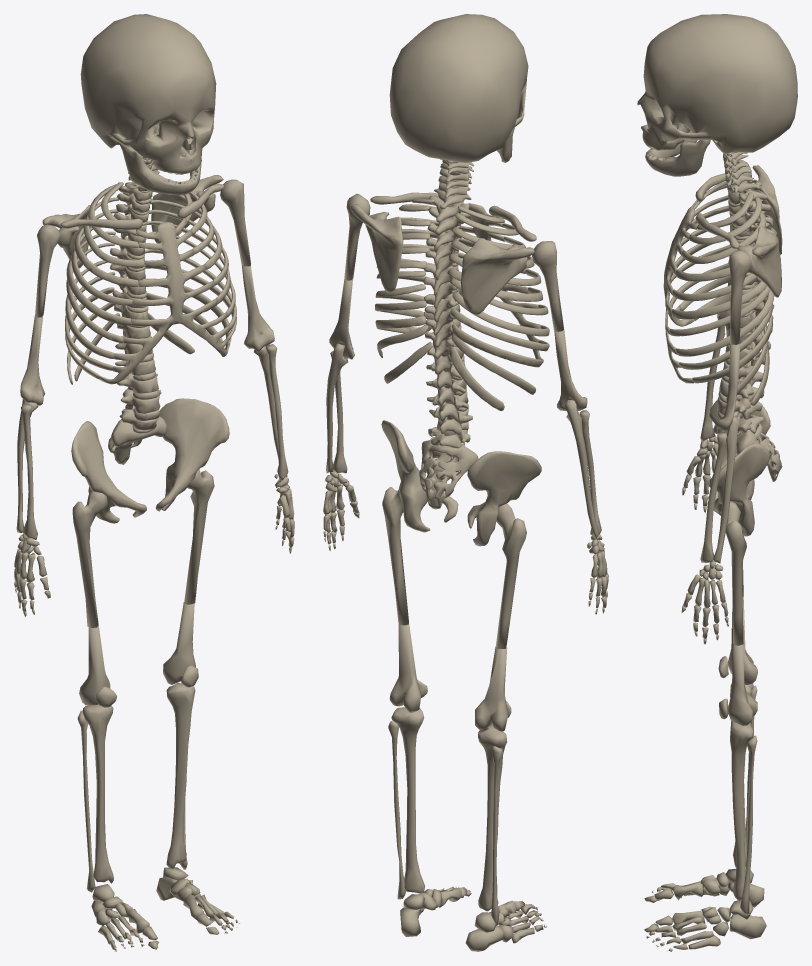
File: pediatric_child_5y_female.skeletal.LOD2.glb
3 views of the same model, side by side, from view 1: azimuth 30°, elevation 25°; view 2: azimuth 150°, elevation 25°; view 3: azimuth 270°, elevation 25° (orthographic).
Parts seen in each view (by area): view 1: PEDIATRIC.CHILD_5Y.FEMALE.SKELETAL.CRANIUM_CORTICAL, PEDIATRIC.CHILD_5Y.FEMALE.SKELETAL.RIBS_CORTICAL, PEDIATRIC.CHILD_5Y.FEMALE.SKELETAL.PELVIS_CORTICAL, PEDIATRIC.CHILD_5Y.FEMALE.SKELETAL.CARTILAGE_TRUNK, PEDIATRIC.CHILD_5Y.FEMALE.SKELETAL.TIBIAE_CORTICAL, PEDIATRIC.CHILD_5Y.FEMALE.SKELETAL.ANKLES_AND_FOOT_CORTICAL, PEDIATRIC.CHILD_5Y.FEMALE.SKELETAL.FEMORA_UPPER_CORTICAL, PEDIATRIC.CHILD_5Y.FEMALE.SKELETAL.THORACIC_SPINE_CORTICAL, PEDIATRIC.CHILD_5Y.FEMALE.SKELETAL.FEMORA_LOWER_CORTICAL, PEDIATRIC.CHILD_5Y.FEMALE.SKELETAL.WRISTS_AND_HAND_BONES_COR, PEDIATRIC.CHILD_5Y.FEMALE.SKELETAL.HUMERI_LOWER_CORTICAL, PEDIATRIC.CHILD_5Y.FEMALE.SKELETAL.HUMERI_UPPER_CORTICAL (+9 smaller); view 2: PEDIATRIC.CHILD_5Y.FEMALE.SKELETAL.CRANIUM_CORTICAL, PEDIATRIC.CHILD_5Y.FEMALE.SKELETAL.RIBS_CORTICAL, PEDIATRIC.CHILD_5Y.FEMALE.SKELETAL.PELVIS_CORTICAL, PEDIATRIC.CHILD_5Y.FEMALE.SKELETAL.SCAPULAE_CORTICAL, PEDIATRIC.CHILD_5Y.FEMALE.SKELETAL.TIBIAE_CORTICAL, PEDIATRIC.CHILD_5Y.FEMALE.SKELETAL.THORACIC_SPINE_CORTICAL, PEDIATRIC.CHILD_5Y.FEMALE.SKELETAL.FEMORA_UPPER_CORTICAL, PEDIATRIC.CHILD_5Y.FEMALE.SKELETAL.ANKLES_AND_FOOT_CORTICAL, PEDIATRIC.CHILD_5Y.FEMALE.SKELETAL.FEMORA_LOWER_CORTICAL, PEDIATRIC.CHILD_5Y.FEMALE.SKELETAL.LUMBAR_SPINE_CORTICAL, PEDIATRIC.CHILD_5Y.FEMALE.SKELETAL.WRISTS_AND_HAND_BONES_COR, PEDIATRIC.CHILD_5Y.FEMALE.SKELETAL.SACRUM_CORTICAL (+8 smaller); view 3: PEDIATRIC.CHILD_5Y.FEMALE.SKELETAL.CRANIUM_CORTICAL, PEDIATRIC.CHILD_5Y.FEMALE.SKELETAL.RIBS_CORTICAL, PEDIATRIC.CHILD_5Y.FEMALE.SKELETAL.ANKLES_AND_FOOT_CORTICAL, PEDIATRIC.CHILD_5Y.FEMALE.SKELETAL.WRISTS_AND_HAND_BONES_COR, PEDIATRIC.CHILD_5Y.FEMALE.SKELETAL.PELVIS_CORTICAL, PEDIATRIC.CHILD_5Y.FEMALE.SKELETAL.TIBIAE_CORTICAL, PEDIATRIC.CHILD_5Y.FEMALE.SKELETAL.SCAPULAE_CORTICAL, PEDIATRIC.CHILD_5Y.FEMALE.SKELETAL.CARTILAGE_TRUNK, PEDIATRIC.CHILD_5Y.FEMALE.SKELETAL.FEMORA_LOWER_CORTICAL, PEDIATRIC.CHILD_5Y.FEMALE.SKELETAL.RADII_CORTICAL, PEDIATRIC.CHILD_5Y.FEMALE.SKELETAL.FEMORA_UPPER_CORTICAL, PEDIATRIC.CHILD_5Y.FEMALE.SKELETAL.LUMBAR_SPINE_CORTICAL (+9 smaller).
Boxes of the visible parts, x1,y1,x2,y2 form: PEDIATRIC.CHILD_5Y.FEMALE.SKELETAL.CRANIUM_CORTICAL: (80, 14, 216, 174); PEDIATRIC.CHILD_5Y.FEMALE.SKELETAL.RIBS_CORTICAL: (65, 182, 236, 384); PEDIATRIC.CHILD_5Y.FEMALE.SKELETAL.PELVIS_CORTICAL: (71, 398, 229, 523); PEDIATRIC.CHILD_5Y.FEMALE.SKELETAL.CARTILAGE_TRUNK: (98, 158, 229, 433); PEDIATRIC.CHILD_5Y.FEMALE.SKELETAL.TIBIAE_CORTICAL: (83, 683, 195, 883); PEDIATRIC.CHILD_5Y.FEMALE.SKELETAL.ANKLES_AND_FOOT_CORTICAL: (91, 867, 239, 951); PEDIATRIC.CHILD_5Y.FEMALE.SKELETAL.FEMORA_UPPER_CORTICAL: (72, 469, 214, 627); PEDIATRIC.CHILD_5Y.FEMALE.SKELETAL.THORACIC_SPINE_CORTICAL: (110, 182, 152, 338); PEDIATRIC.CHILD_5Y.FEMALE.SKELETAL.FEMORA_LOWER_CORTICAL: (79, 602, 195, 705); PEDIATRIC.CHILD_5Y.FEMALE.SKELETAL.WRISTS_AND_HAND_BONES_COR: (14, 474, 294, 616); PEDIATRIC.CHILD_5Y.FEMALE.SKELETAL.HUMERI_LOWER_CORTICAL: (20, 265, 274, 405); PEDIATRIC.CHILD_5Y.FEMALE.SKELETAL.HUMERI_UPPER_CORTICAL: (35, 179, 250, 317); PEDIATRIC.CHILD_5Y.FEMALE.SKELETAL.CRANIUM_CORTICAL: (389, 14, 528, 163); PEDIATRIC.CHILD_5Y.FEMALE.SKELETAL.RIBS_CORTICAL: (375, 198, 549, 411); PEDIATRIC.CHILD_5Y.FEMALE.SKELETAL.PELVIS_CORTICAL: (381, 420, 541, 546); PEDIATRIC.CHILD_5Y.FEMALE.SKELETAL.SCAPULAE_CORTICAL: (350, 204, 534, 315); PEDIATRIC.CHILD_5Y.FEMALE.SKELETAL.TIBIAE_CORTICAL: (391, 707, 507, 911); PEDIATRIC.CHILD_5Y.FEMALE.SKELETAL.THORACIC_SPINE_CORTICAL: (423, 195, 469, 374); PEDIATRIC.CHILD_5Y.FEMALE.SKELETAL.FEMORA_UPPER_CORTICAL: (382, 482, 526, 648); PEDIATRIC.CHILD_5Y.FEMALE.SKELETAL.ANKLES_AND_FOOT_CORTICAL: (400, 887, 547, 951); PEDIATRIC.CHILD_5Y.FEMALE.SKELETAL.FEMORA_LOWER_CORTICAL: (389, 624, 507, 731); PEDIATRIC.CHILD_5Y.FEMALE.SKELETAL.LUMBAR_SPINE_CORTICAL: (426, 360, 472, 447); PEDIATRIC.CHILD_5Y.FEMALE.SKELETAL.WRISTS_AND_HAND_BONES_COR: (323, 471, 608, 614); PEDIATRIC.CHILD_5Y.FEMALE.SKELETAL.SACRUM_CORTICAL: (419, 437, 478, 509); PEDIATRIC.CHILD_5Y.FEMALE.SKELETAL.CRANIUM_CORTICAL: (637, 14, 797, 154); PEDIATRIC.CHILD_5Y.FEMALE.SKELETAL.RIBS_CORTICAL: (669, 179, 776, 405); PEDIATRIC.CHILD_5Y.FEMALE.SKELETAL.ANKLES_AND_FOOT_CORTICAL: (644, 869, 766, 951); PEDIATRIC.CHILD_5Y.FEMALE.SKELETAL.WRISTS_AND_HAND_BONES_COR: (681, 435, 728, 644); PEDIATRIC.CHILD_5Y.FEMALE.SKELETAL.PELVIS_CORTICAL: (709, 399, 770, 536); PEDIATRIC.CHILD_5Y.FEMALE.SKELETAL.TIBIAE_CORTICAL: (730, 683, 753, 900); PEDIATRIC.CHILD_5Y.FEMALE.SKELETAL.SCAPULAE_CORTICAL: (737, 165, 782, 297); PEDIATRIC.CHILD_5Y.FEMALE.SKELETAL.CARTILAGE_TRUNK: (663, 155, 751, 435); PEDIATRIC.CHILD_5Y.FEMALE.SKELETAL.FEMORA_LOWER_CORTICAL: (727, 596, 757, 725); PEDIATRIC.CHILD_5Y.FEMALE.SKELETAL.RADII_CORTICAL: (700, 313, 727, 563); PEDIATRIC.CHILD_5Y.FEMALE.SKELETAL.FEMORA_UPPER_CORTICAL: (721, 501, 746, 645); PEDIATRIC.CHILD_5Y.FEMALE.SKELETAL.LUMBAR_SPINE_CORTICAL: (717, 342, 764, 433).
Bounding box in the file's own units: 0.3467 × 1.09 × 0.1753.
